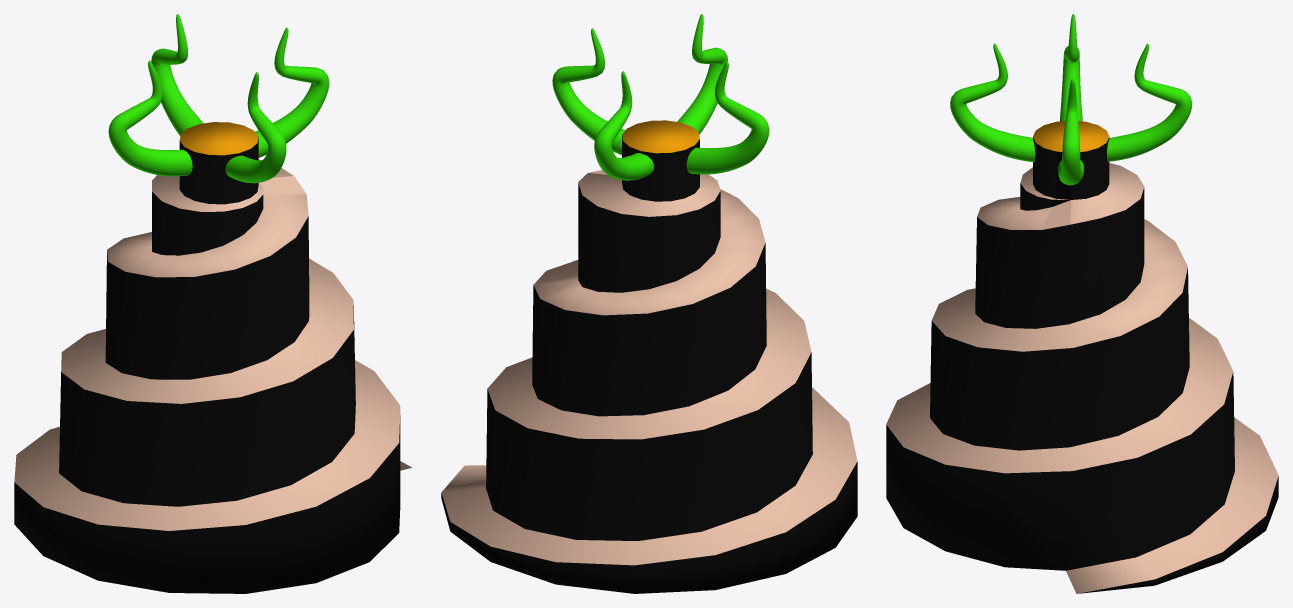
Rendered from FireTower.fbx.
The picture shows the model from 3 angles, left to right: view 1: azimuth 30°, elevation 25°; view 2: azimuth 150°, elevation 25°; view 3: azimuth 270°, elevation 25°; orthographic projection. The views are drawn at different scales.
Visible parts, largest first — view 1: Spiral, BezierCurve.006; view 2: Spiral, BezierCurve.006; view 3: Spiral, BezierCurve.006.
Part boxes in pixels (<box>): Spiral: <box>14,122,411,593</box>; BezierCurve.006: <box>108,14,329,183</box>; Spiral: <box>441,120,857,593</box>; BezierCurve.006: <box>552,14,769,180</box>; Spiral: <box>886,121,1278,593</box>; BezierCurve.006: <box>950,14,1192,185</box>.
Size of the model in its own units: 210 by 256 by 199.
